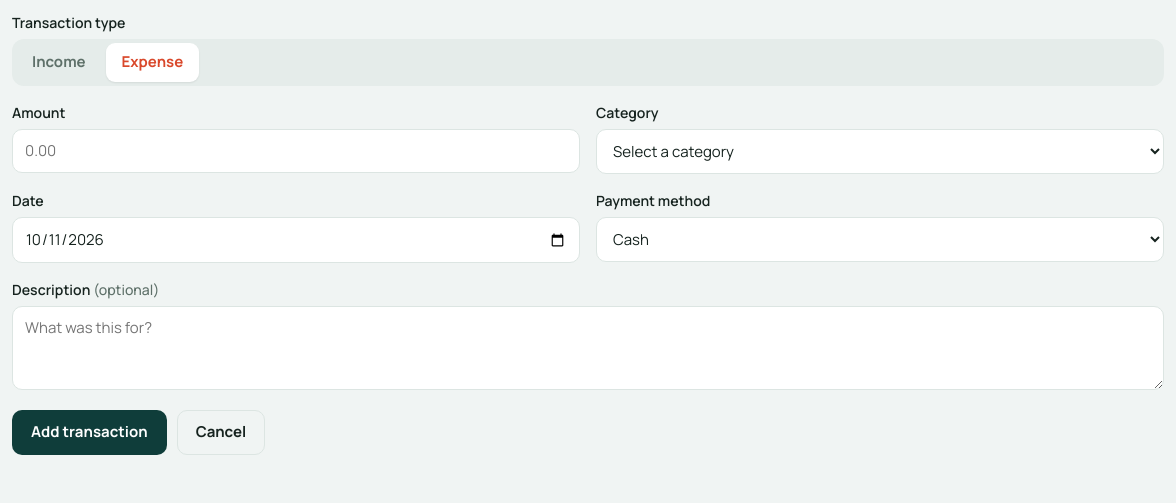
Test: TransactionForm › shows validation messages and does not submit an empty form
The image size is (1176, 503).
Click the button "Add transaction" at (89, 433), box top-left (12, 410), bottom-right (167, 455)
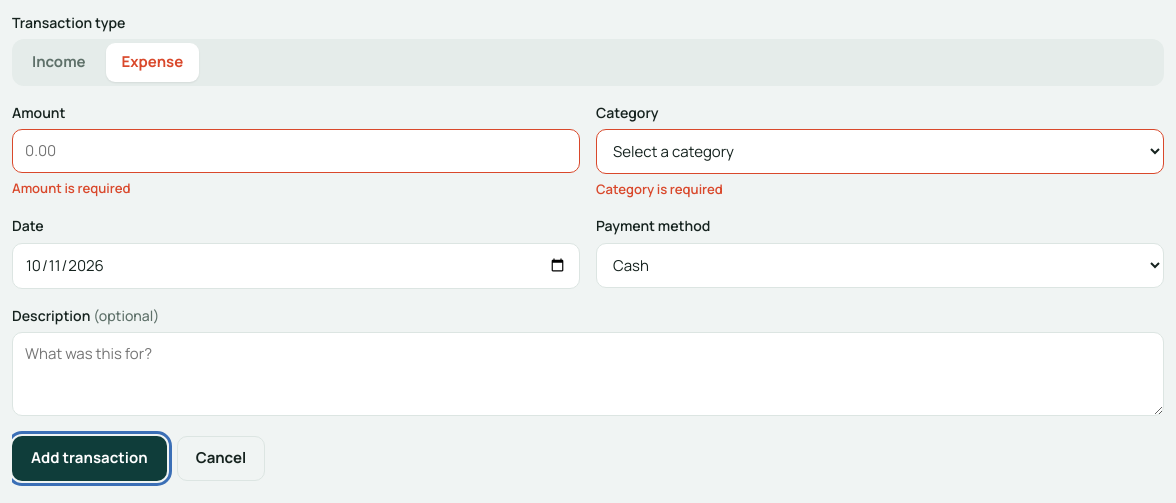
Result: the text "Amount is required" is shown at top-left (12, 179), bottom-right (130, 197)
Result: the text "Category is required" is shown at top-left (596, 180), bottom-right (723, 198)
